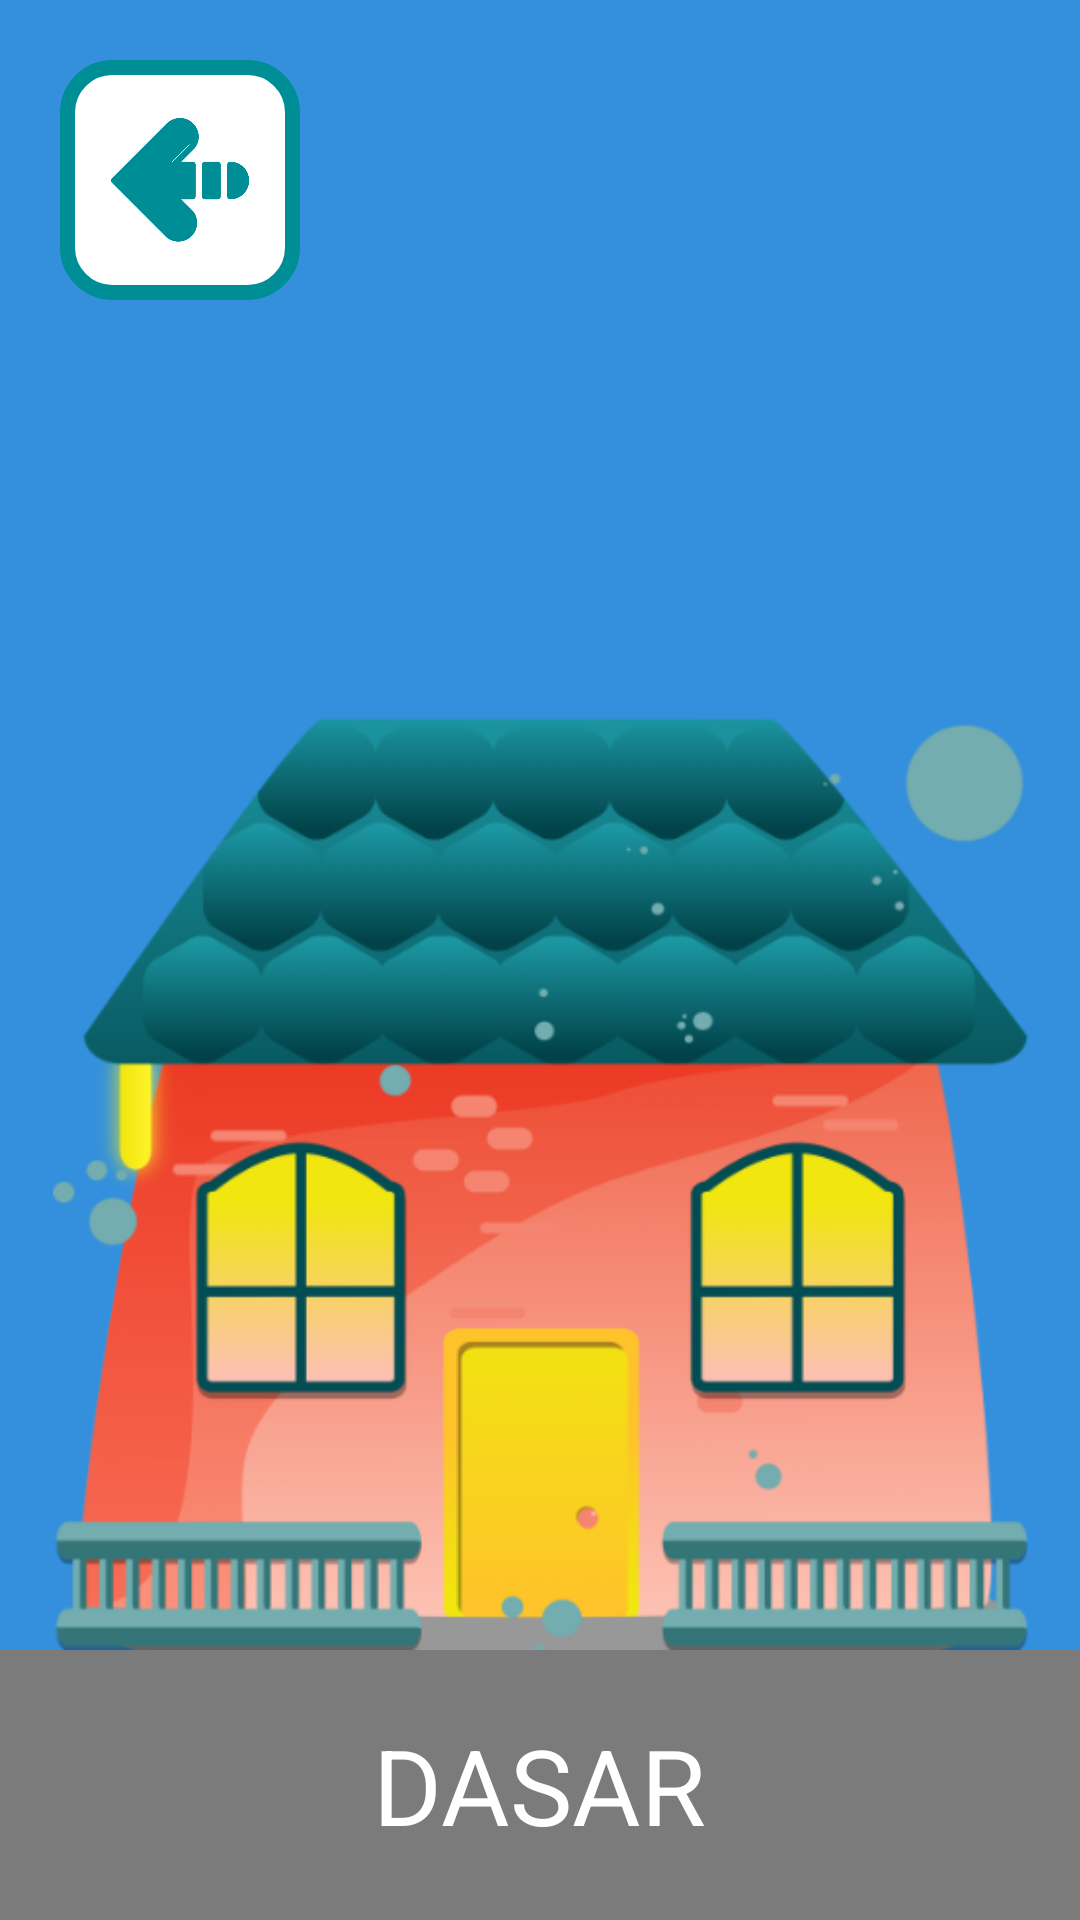

Icon click points for this 1080×1920 phone screenshot, format (x,y):
Menu Backward: (180,180)
